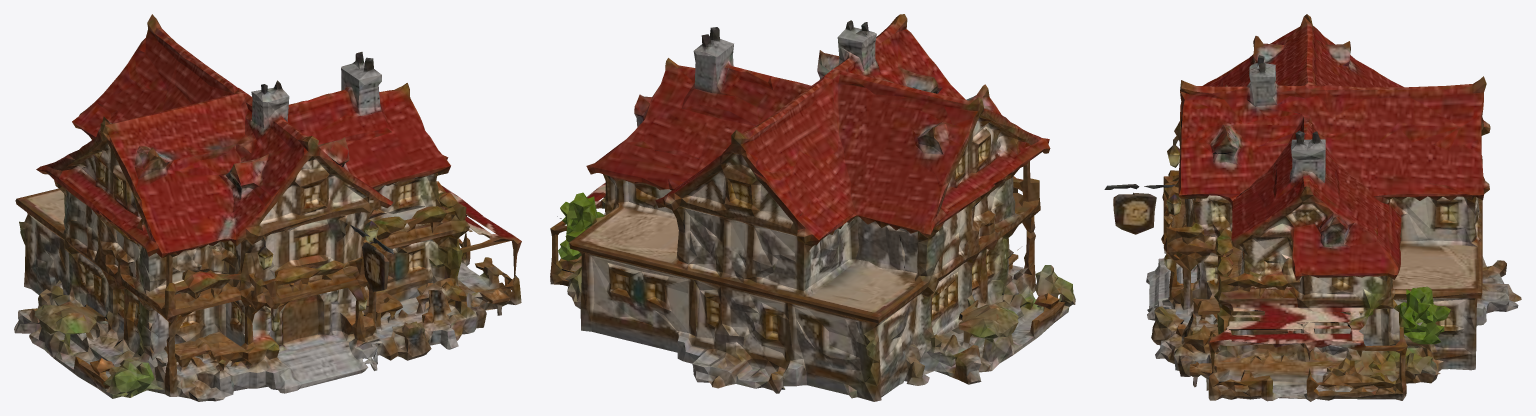
The model's file is inn_lod1.glb.
The picture shows the model from 3 angles, left to right: view 1: azimuth 30°, elevation 25°; view 2: azimuth 150°, elevation 25°; view 3: azimuth 270°, elevation 25°; orthographic projection. The views are drawn at different scales.
Parts seen in each view (by area): view 1: lod; view 2: lod; view 3: lod.
Boxes of the visible parts, left/top/right/bottom form: lod: left=14, top=14, right=521, bottom=401; lod: left=550, top=14, right=1075, bottom=401; lod: left=1104, top=14, right=1521, bottom=401.
Size of the model in its own units: 1.87 by 1.12 by 1.74.
Materials: 1 (1 with a texture image).
